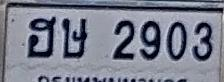0: (166, 20, 187, 60)
2: (112, 19, 134, 59)
3: (192, 21, 212, 61)
9: (140, 20, 160, 60)
A39: (61, 18, 88, 58)
A44: (27, 16, 56, 58)
